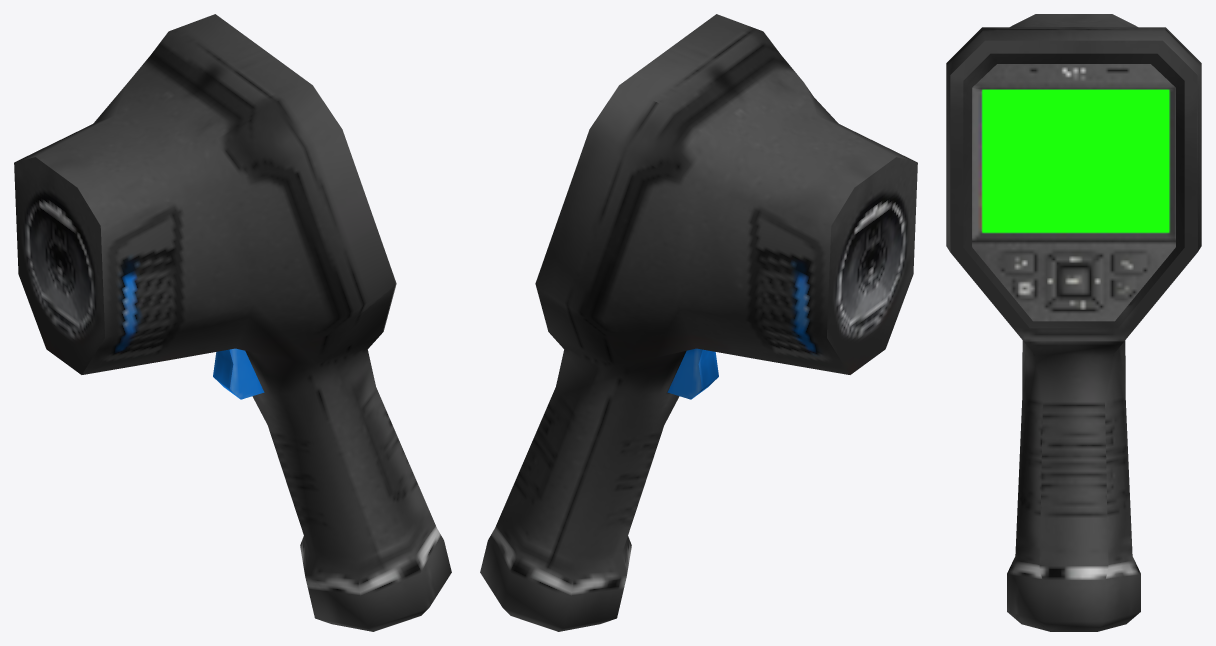
File: Thermal_Camera.glb
The picture shows the model from 3 angles, left to right: view 1: azimuth 30°, elevation 25°; view 2: azimuth 150°, elevation 25°; view 3: azimuth 270°, elevation 25°; orthographic projection. The views are drawn at different scales.
Visible parts, largest first — view 1: Thermal_Camera; view 2: Thermal_Camera; view 3: Thermal_Camera.
Part boxes in pixels (<box>): Thermal_Camera: <box>14,14,451,631</box>; Thermal_Camera: <box>480,14,917,631</box>; Thermal_Camera: <box>946,14,1201,631</box>.
Bounding box in the file's own units: 0.2164 × 0.3223 × 0.1384.
Materials: 2 (1 with a texture image).
